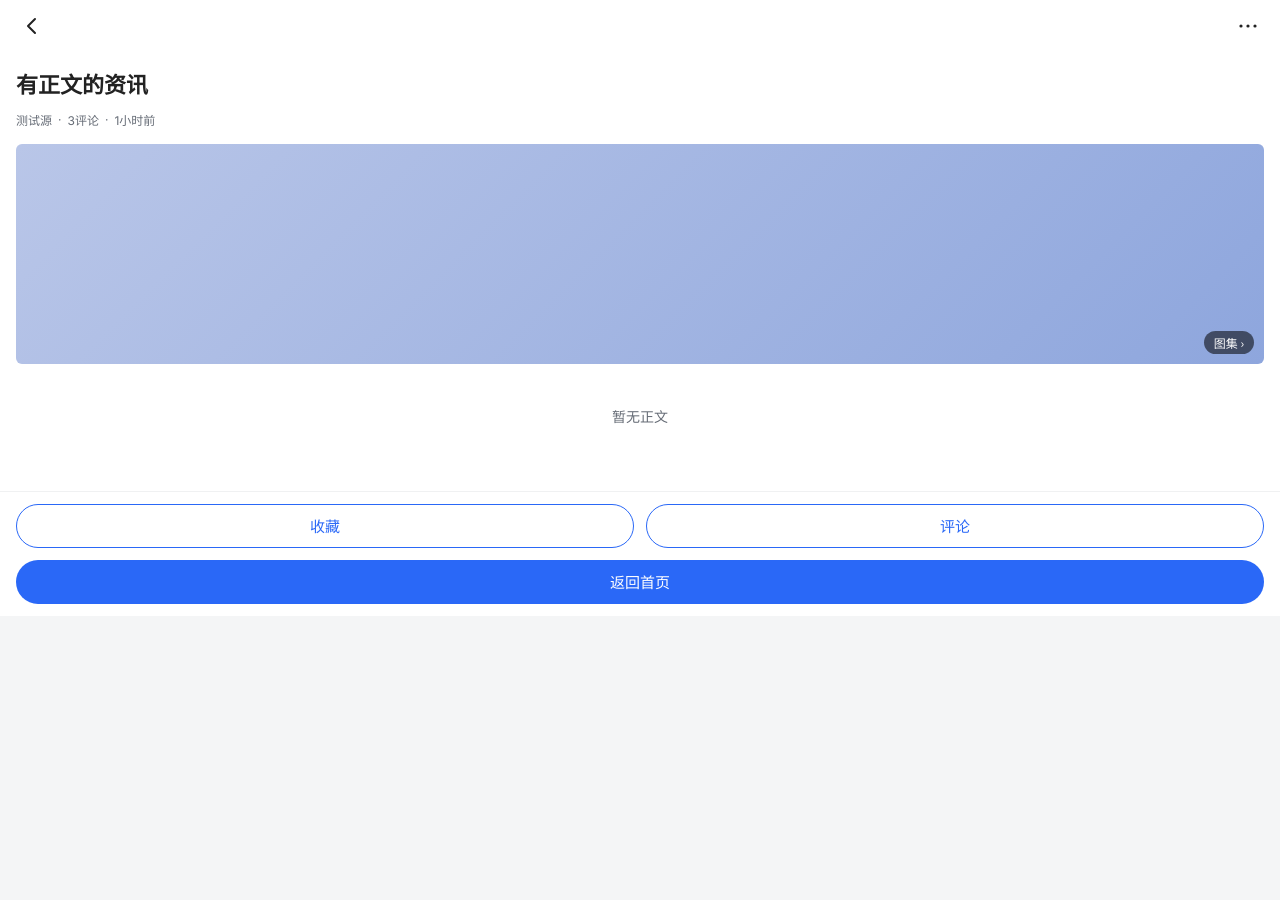
views/NewsDetail 举报入口（E5） › 点击导航「更多」打开举报弹窗，目标为当前资讯
Click the button named "更多" at (1248,26), box [1232, 10, 1264, 42]
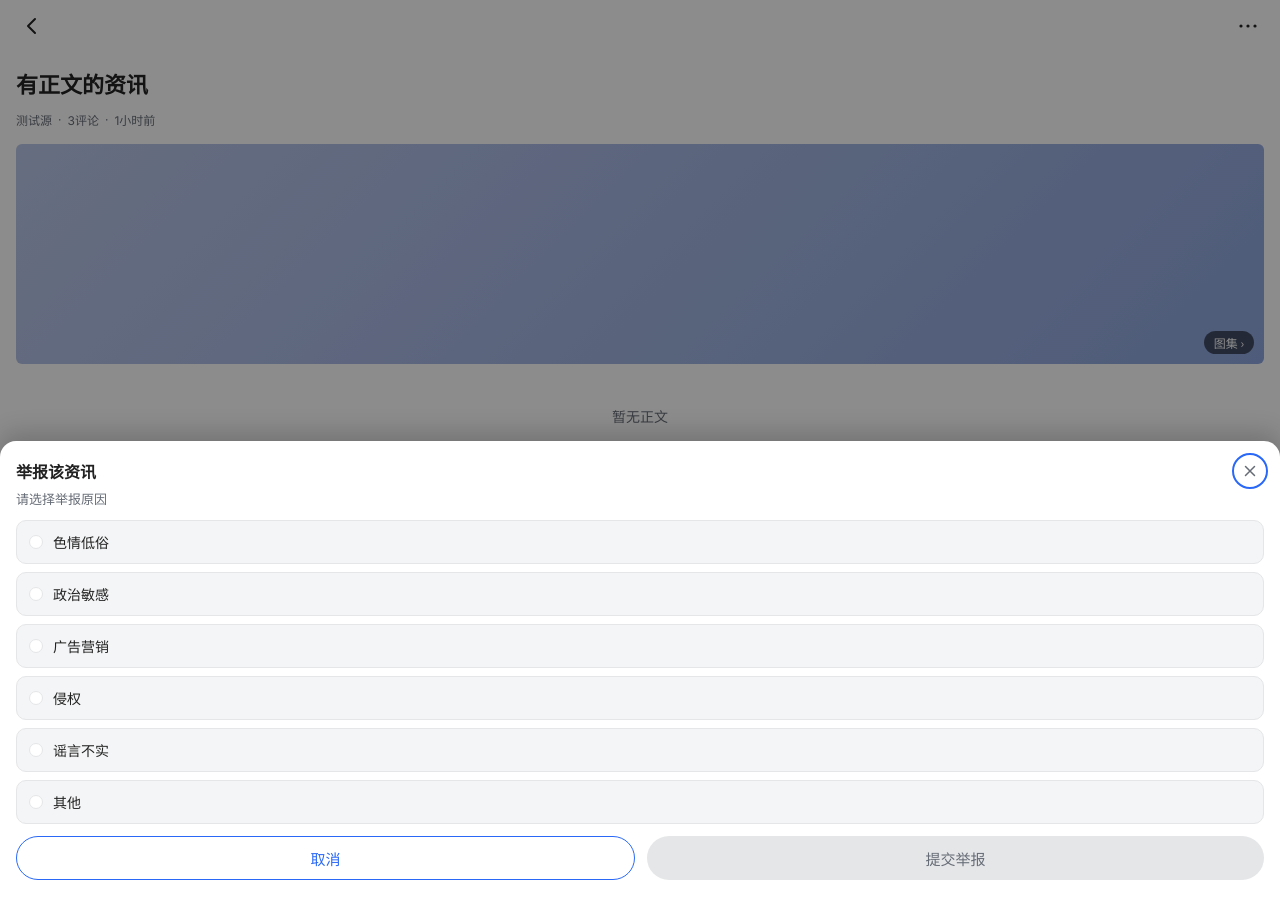
Now the element with class "mask" is shown
Now the text "举报该资讯" is shown, box [16, 458, 96, 482]
Now the radio button with class "reason" showing "色情低俗" is shown, box [16, 520, 1264, 564]
